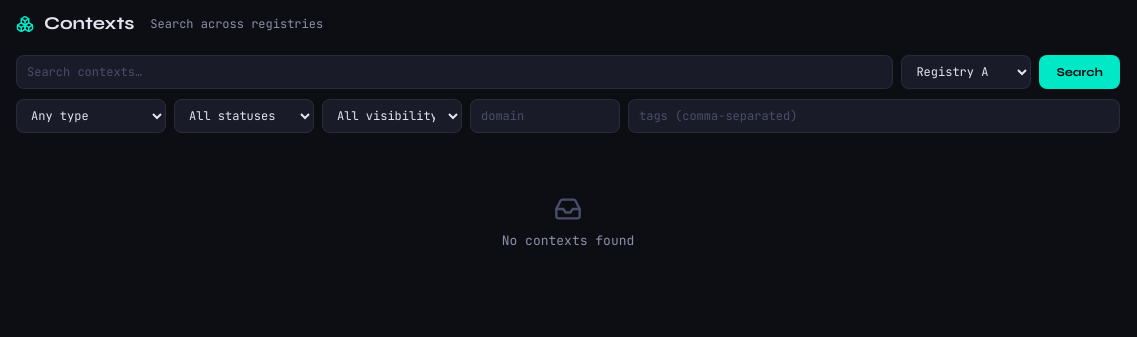
/contexts — a MERGED response is exempt from the flat empty state › says "not the whole result set" rather than "no contexts found"
The image size is (1137, 337).
Expected: the text "No contexts found" is shown, [502,231,634,250]
Select "key-revocation" in the dropdown named "Filter by type" at (91, 116), box [16,99,166,133]
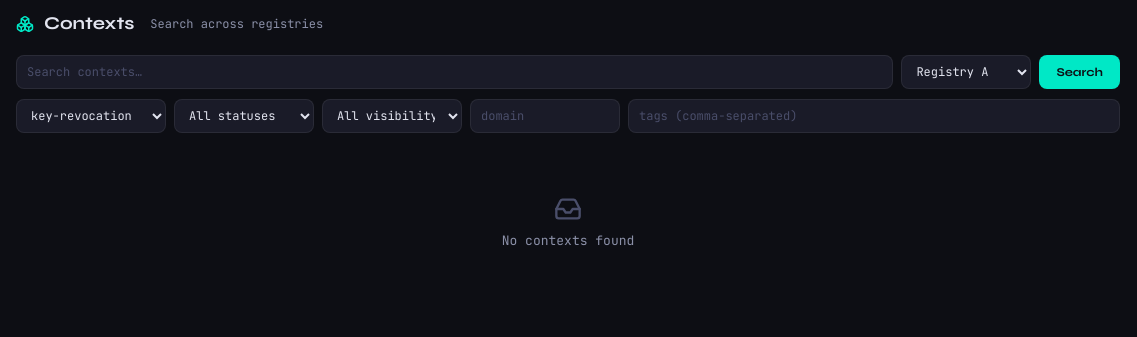
Click the button "Search" at (1080, 72), box [1039,55,1120,89]
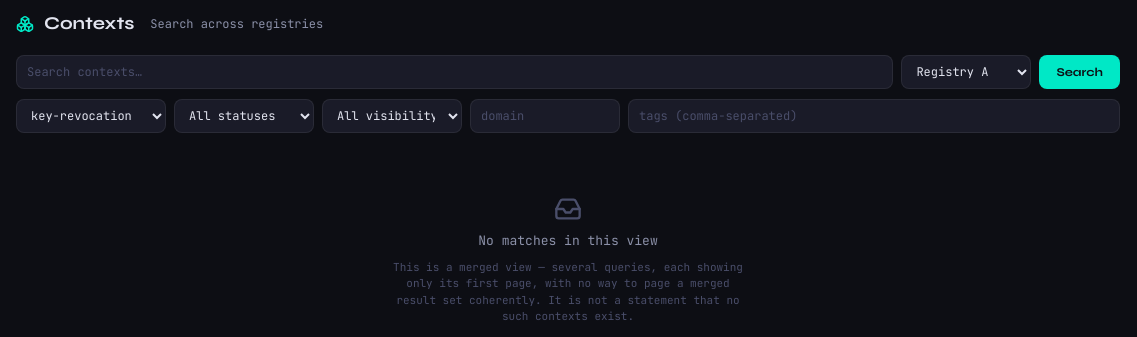
Expected: the text "No matches in this view" is shown, [478,231,658,250]
Expected: the text "No contexts found" is gone
